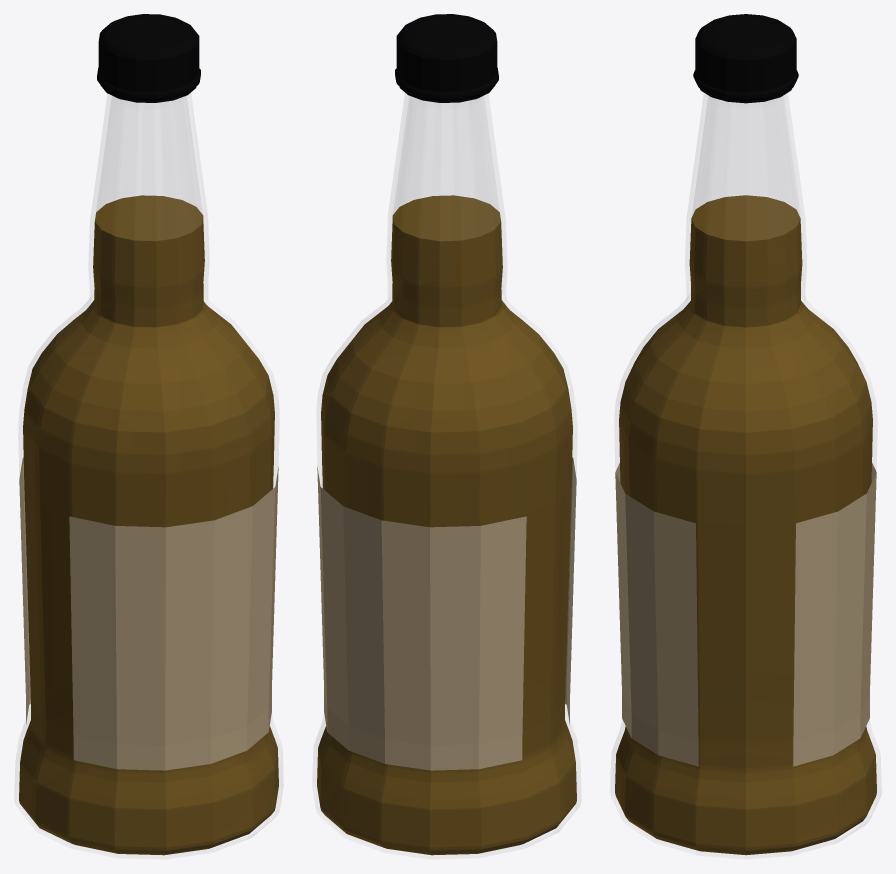
Rendered from Bottle_5.fbx.
3 views of the same model, side by side, from view 1: azimuth 30°, elevation 25°; view 2: azimuth 150°, elevation 25°; view 3: azimuth 270°, elevation 25° (orthographic).
Parts seen in each view (by area): view 1: Bottle5.001; view 2: Bottle5.001; view 3: Bottle5.001.
Part boxes in pixels (x1,y1,x2,y2): Bottle5.001: (14,14,283,859); Bottle5.001: (312,14,581,859); Bottle5.001: (610,14,881,859).
Bounding box in the file's own units: 33.83 × 107 × 33.83.
